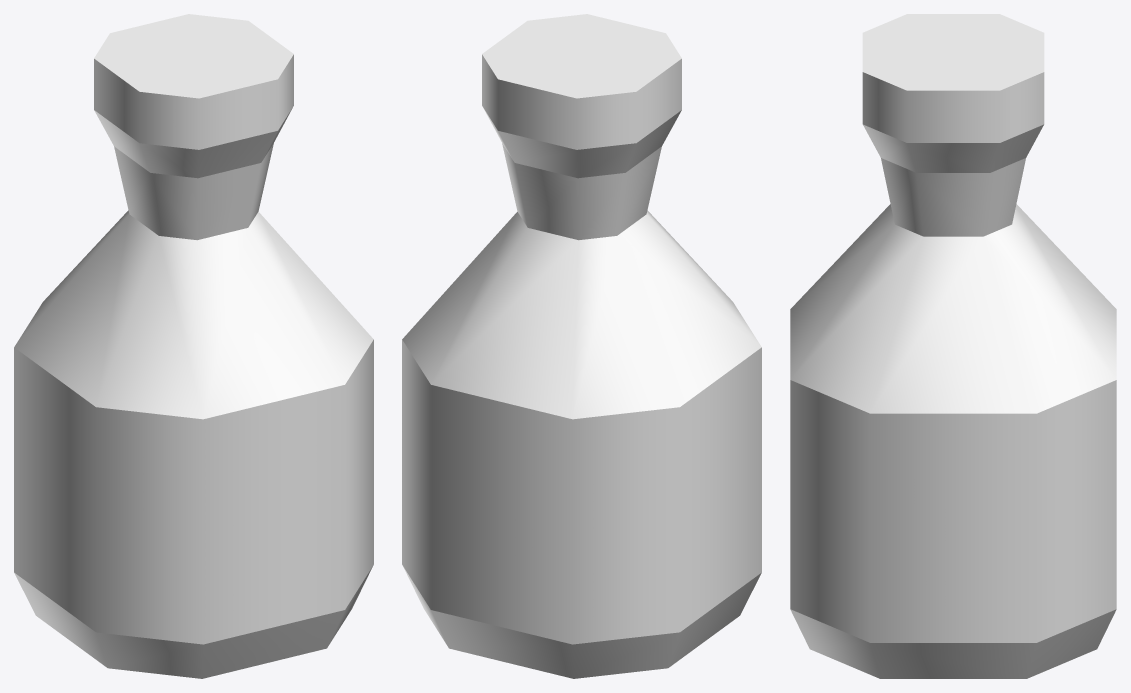
File: bottle-large.glb
3 views of the same model, side by side, from view 1: azimuth 30°, elevation 25°; view 2: azimuth 150°, elevation 25°; view 3: azimuth 270°, elevation 25° (orthographic).
Visible parts, largest first — view 1: bottle-large; view 2: bottle-large; view 3: bottle-large.
Part boxes in pixels (box(x1,y1,x2,y2)): bottle-large: box(14, 14, 373, 678); bottle-large: box(402, 14, 761, 678); bottle-large: box(790, 14, 1116, 678).
Bounding box in the file's own units: 0.4658 × 0.8905 × 0.4658.
Materials: 1 (1 with a texture image).
